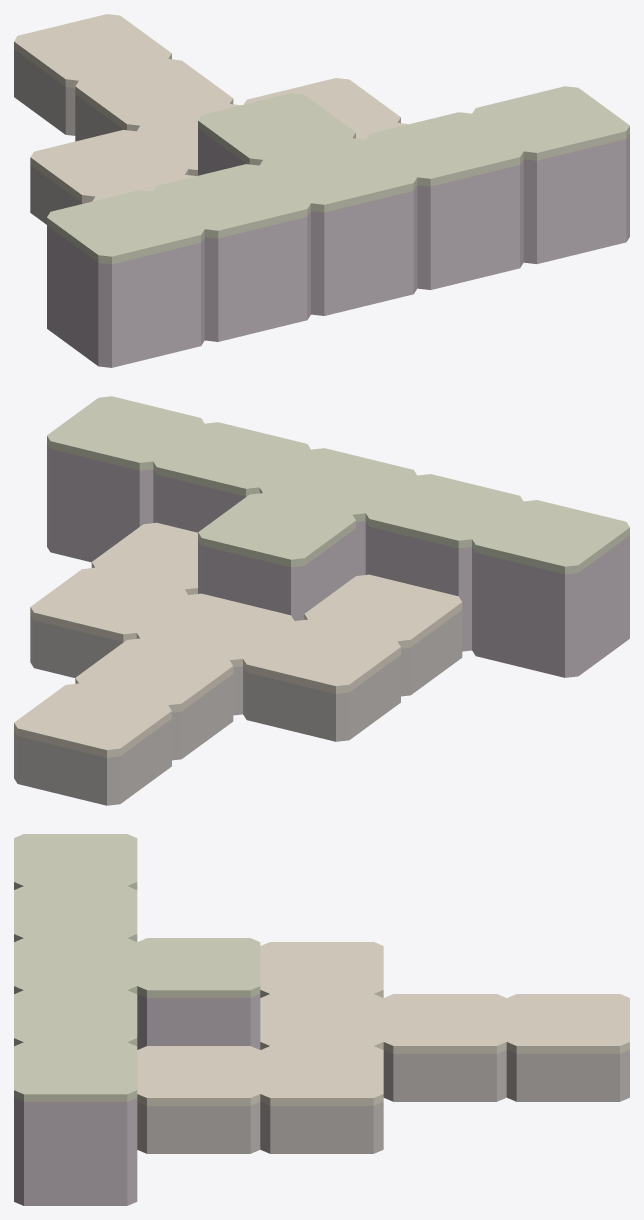
The model's file is spit.glb.
The picture shows the model from 3 angles, top to bottom: view 1: azimuth 30°, elevation 25°; view 2: azimuth 150°, elevation 25°; view 3: azimuth 270°, elevation 25°; orthographic projection.
Parts seen in each view (by area): view 1: spit_998793, spit_ADB18A, spit_C9B99C, spit_A29891; view 2: spit_C9B99C, spit_ADB18A, spit_998793, spit_A29891; view 3: spit_C9B99C, spit_ADB18A, spit_A29891, spit_998793.
Part boxes in pixels (x1,y1,x2,y2): spit_998793: [47, 128, 629, 367]; spit_ADB18A: [47, 86, 629, 264]; spit_C9B99C: [14, 14, 408, 203]; spit_A29891: [14, 49, 123, 224]; spit_C9B99C: [14, 522, 462, 757]; spit_ADB18A: [47, 396, 629, 574]; spit_998793: [47, 444, 629, 677]; spit_A29891: [14, 610, 462, 805]; spit_C9B99C: [137, 942, 629, 1105]; spit_ADB18A: [14, 834, 260, 1101]; spit_A29891: [137, 997, 629, 1153]; spit_998793: [14, 994, 260, 1205].
Size of the model in its own units: 5 by 1 by 5.
